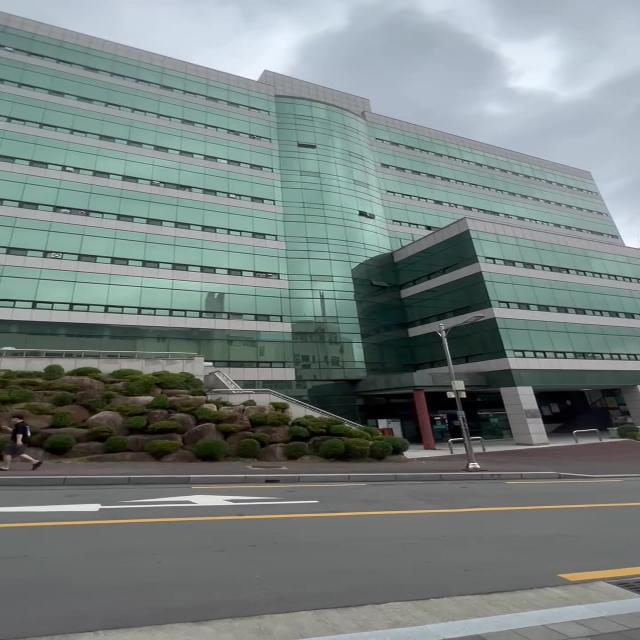building: (0, 37, 615, 376)
